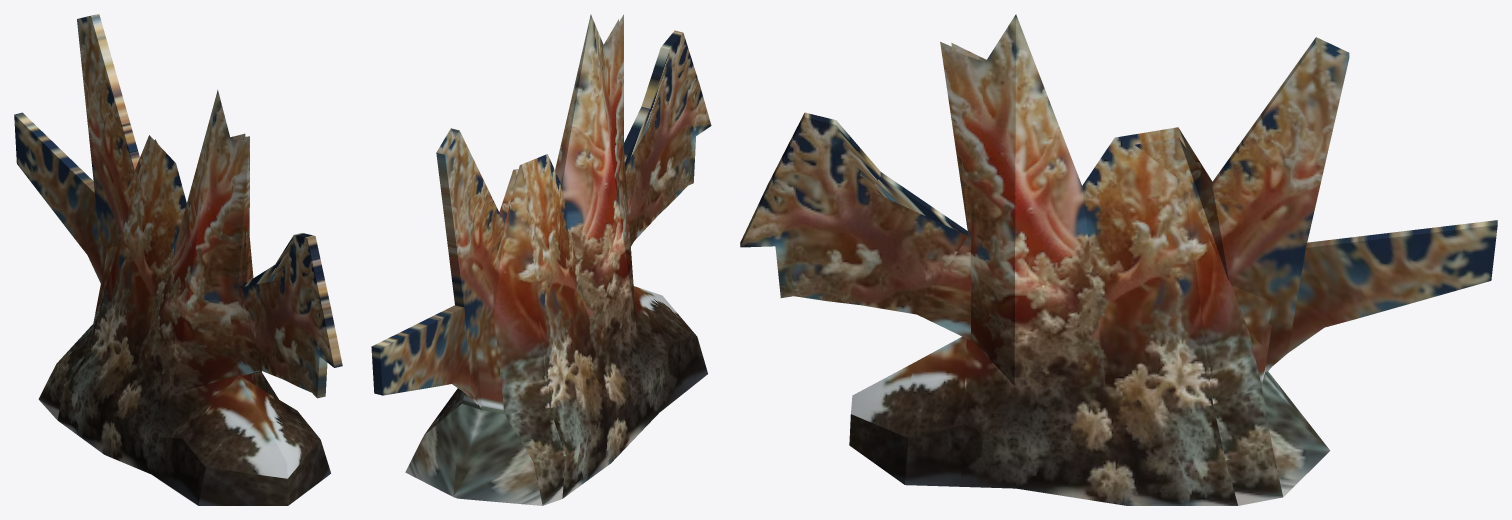
File: corail1.fbx
The picture shows the model from 3 angles, left to right: view 1: azimuth 30°, elevation 25°; view 2: azimuth 150°, elevation 25°; view 3: azimuth 270°, elevation 25°; orthographic projection. The views are drawn at different scales.
Parts seen in each view (by area): view 1: Corail 1; view 2: Corail 1; view 3: Corail 1.
Boxes of the visible parts, x1,y1,x2,y2 form: Corail 1: (14, 14, 342, 505); Corail 1: (371, 14, 711, 505); Corail 1: (740, 14, 1497, 505).
Bounding box in the file's own units: 15.92 × 44.08 × 66.47.
